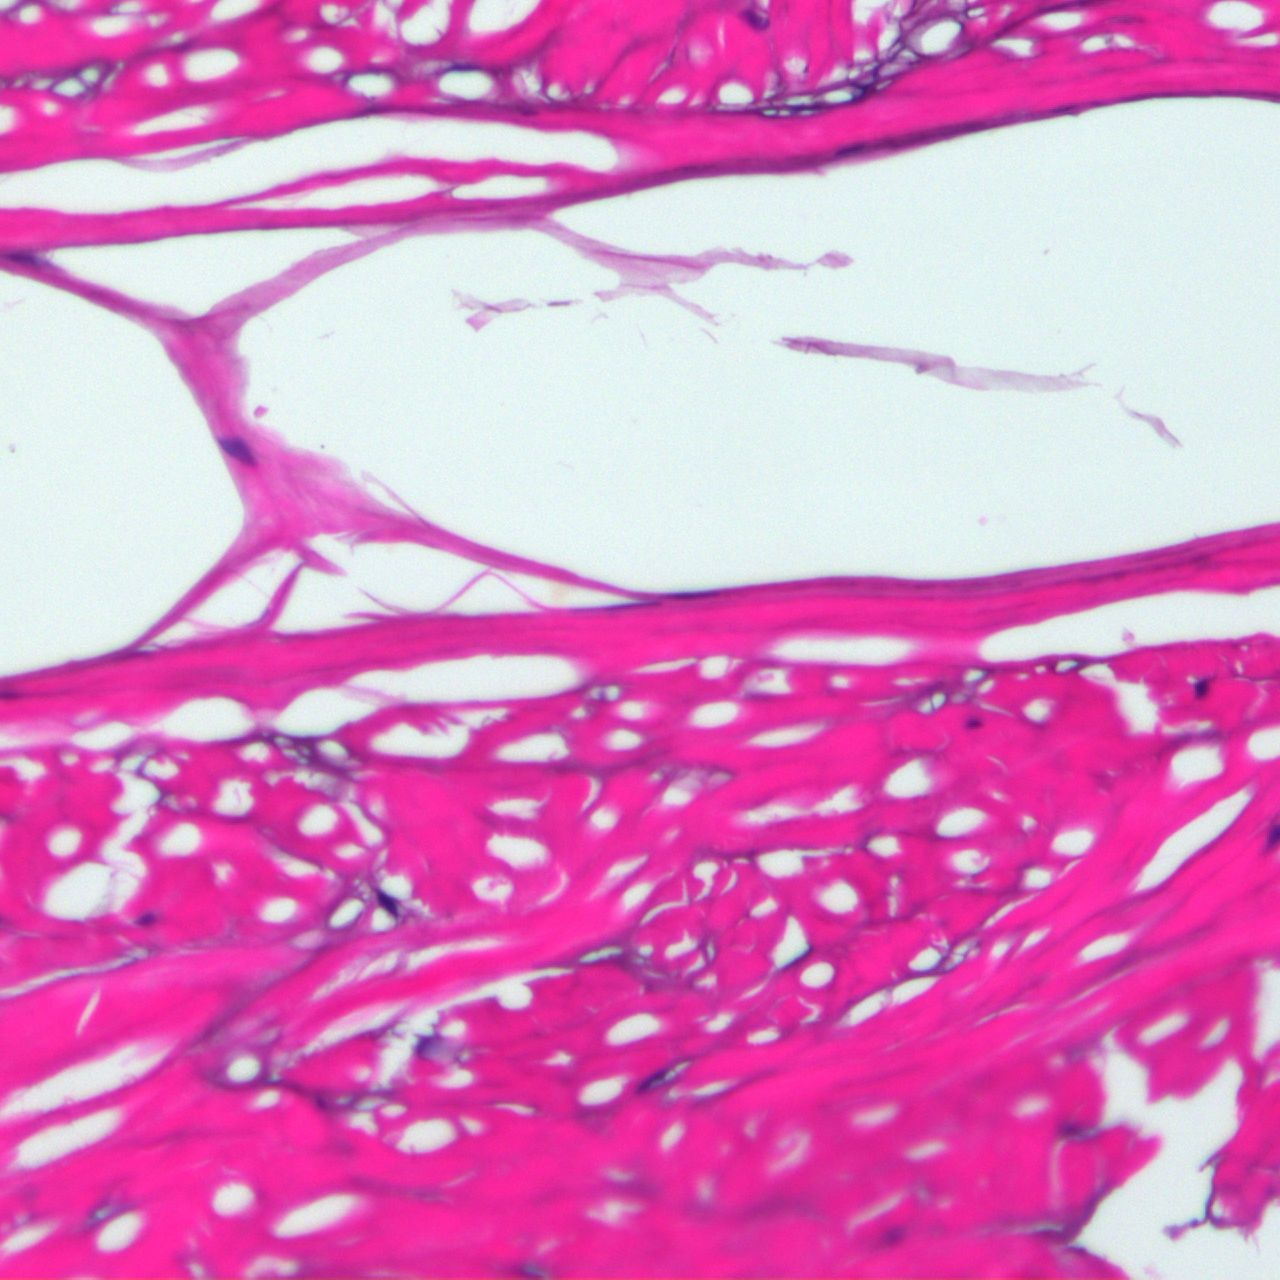nucleus-HE: (212, 426, 264, 473), (369, 884, 407, 922), (131, 906, 160, 932), (739, 11, 769, 31), (1192, 675, 1210, 697), (1265, 824, 1280, 848), (964, 715, 986, 730)
